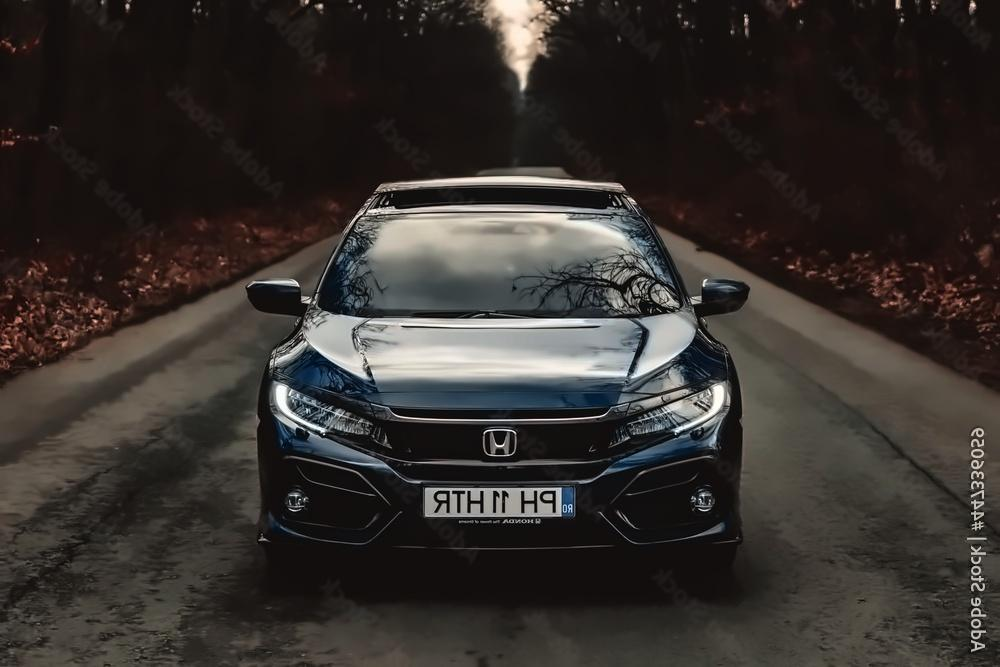Car hood: (269, 299, 734, 415)
Front bumper: (249, 413, 751, 577)
Headlight - -L-: (609, 369, 740, 451)
Headlight - -R-: (263, 365, 391, 447)
Side mirror - -L-: (689, 265, 755, 321)
Side mirror - -R-: (242, 267, 320, 324)
